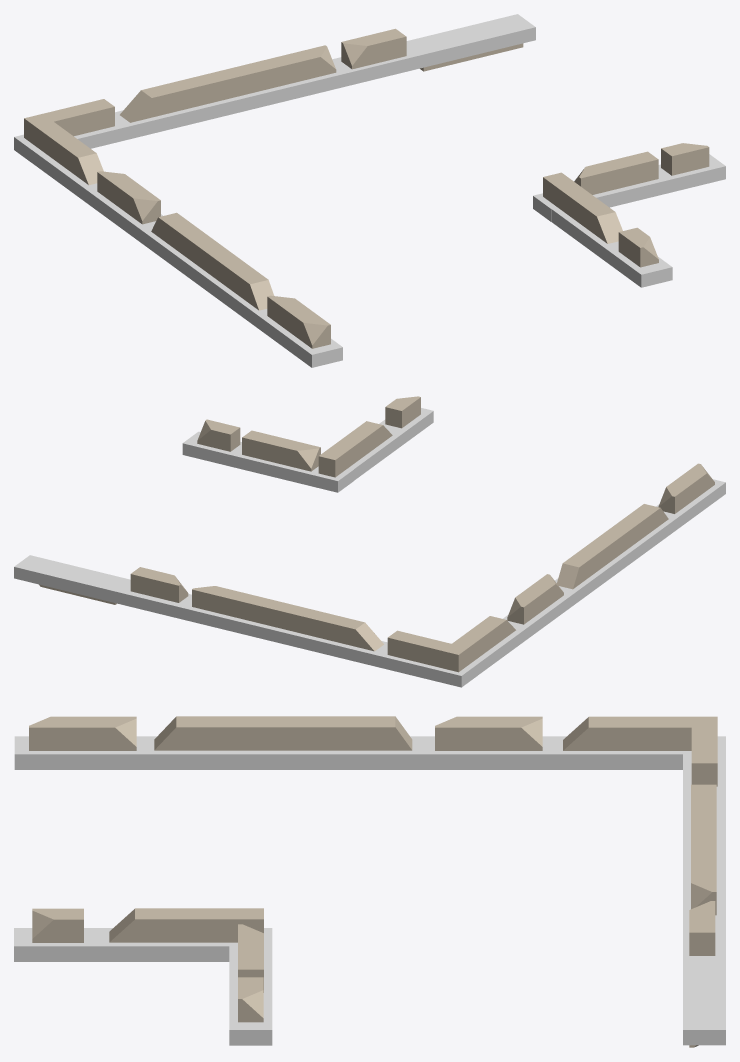
The model's file is RailTaille_Angle_Moyen.FBX.
The picture shows the model from 3 angles, top to bottom: view 1: azimuth 30°, elevation 25°; view 2: azimuth 150°, elevation 25°; view 3: azimuth 270°, elevation 25°; orthographic projection. The views are drawn at different scales.
Parts seen in each view (by area): view 1: Box578, Box572, Box567, Box570, Box575, Box574, Box571, Box573, Box576, Box565, Box579, Box580 (+3 smaller); view 2: Box578, Box567, Box572, Box570, Box575, Box576, Box574, Box571, Box573, Box579, Box568, Box565 (+3 smaller); view 3: Box572, Box570, Box578, Box573, Box574, Box571, Box565, Box579, Box567, Box575, Box577, Box568 (+3 smaller).
Part boxes in pixels (x1=…): Box578: x1=14, y1=14, x2=535, y2=162; Box572: x1=32, y1=148, x2=342, y2=367; Box567: x1=120, y1=45, x2=336, y2=122; Box570: x1=151, y1=212, x2=274, y2=310; Box575: x1=533, y1=154, x2=725, y2=221; Box574: x1=543, y1=172, x2=622, y2=243; Box571: x1=24, y1=113, x2=103, y2=185; Box573: x1=551, y1=207, x2=672, y2=287; Box576: x1=574, y1=151, x2=658, y2=194; Box565: x1=267, y1=295, x2=330, y2=348; Box579: x1=97, y1=171, x2=160, y2=224; Box580: x1=341, y1=28, x2=406, y2=69; Box578: x1=14, y1=555, x2=477, y2=687; Box567: x1=192, y1=586, x2=383, y2=651; Box572: x1=472, y1=479, x2=725, y2=675; Box570: x1=557, y1=504, x2=668, y2=589; Box575: x1=182, y1=431, x2=353, y2=492; Box576: x1=242, y1=430, x2=320, y2=471; Box574: x1=318, y1=421, x2=392, y2=477; Box571: x1=442, y1=616, x2=515, y2=672; Box573: x1=348, y1=408, x2=433, y2=480; Box579: x1=507, y1=574, x2=563, y2=624; Box568: x1=387, y1=630, x2=451, y2=667; Box565: x1=658, y1=463, x2=714, y2=513; Box572: x1=14, y1=736, x2=683, y2=769; Box570: x1=154, y1=716, x2=412, y2=750; Box578: x1=683, y1=736, x2=725, y2=1045; Box573: x1=14, y1=928, x2=229, y2=961; Box574: x1=109, y1=908, x2=263, y2=942; Box571: x1=563, y1=716, x2=717, y2=750; Box565: x1=29, y1=716, x2=136, y2=750; Box579: x1=435, y1=716, x2=542, y2=750; Box567: x1=691, y1=784, x2=716, y2=915; Box575: x1=229, y1=928, x2=272, y2=1045; Box577: x1=32, y1=908, x2=83, y2=942; Box568: x1=691, y1=727, x2=717, y2=786.
Size of the model in its own units: 318 by 23.62 by 326.
